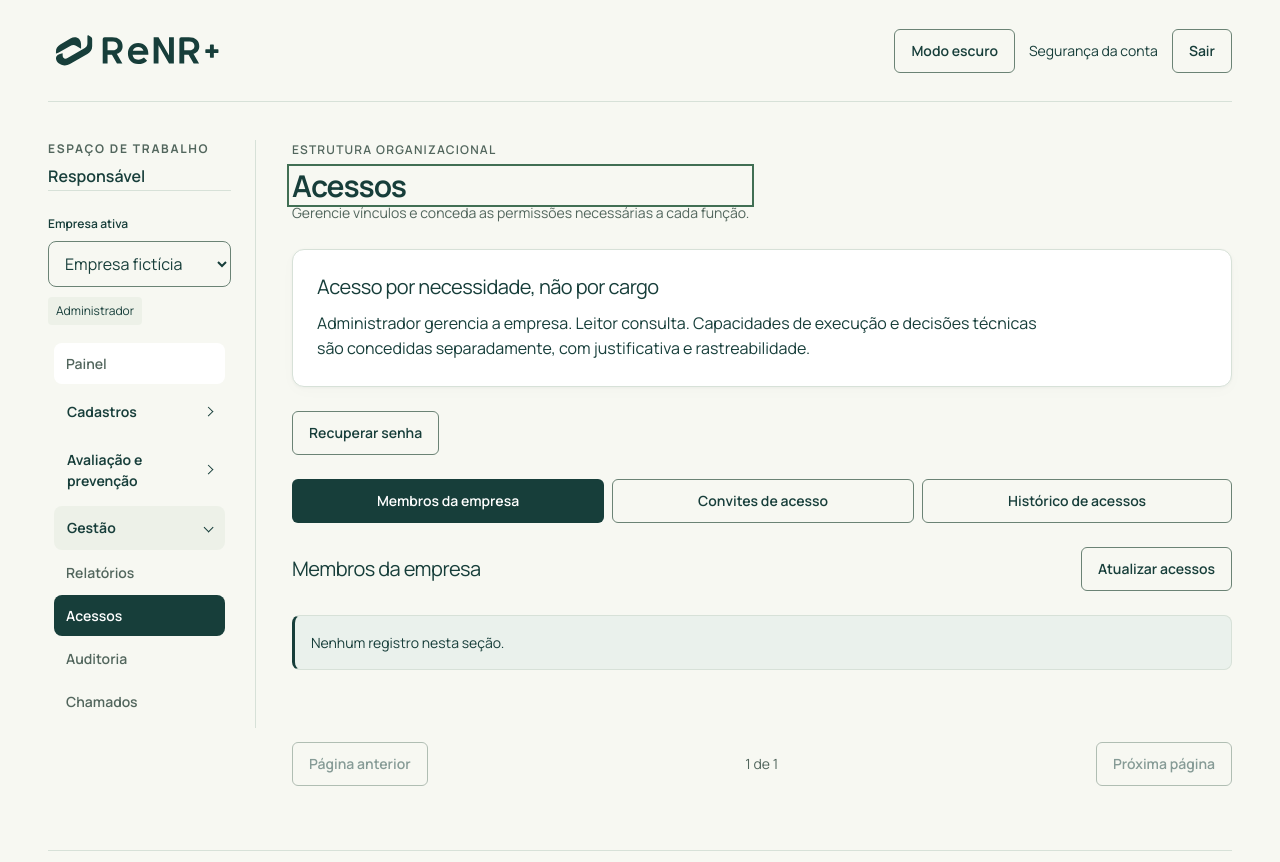
Test case: Recuperação assistida de senha › mantém a emissão empresarial dentro da organização ativa
Step 1. Click the button "Recuperar senha" → click(366, 433), box 292,411 -> 439,455
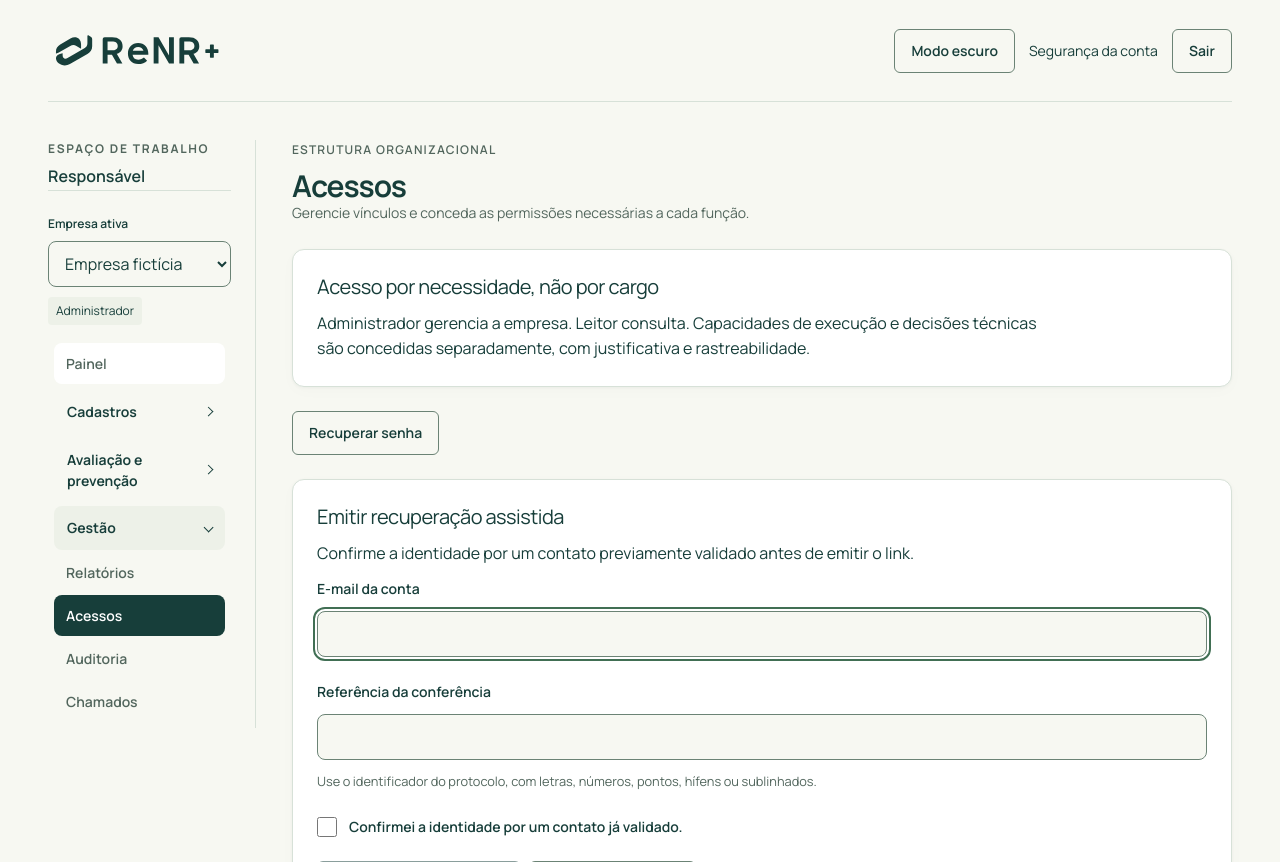
Step 2. Type "titular@example.test" into the field labelled "E-mail da conta" → (762, 634), box 317,611 -> 1207,657
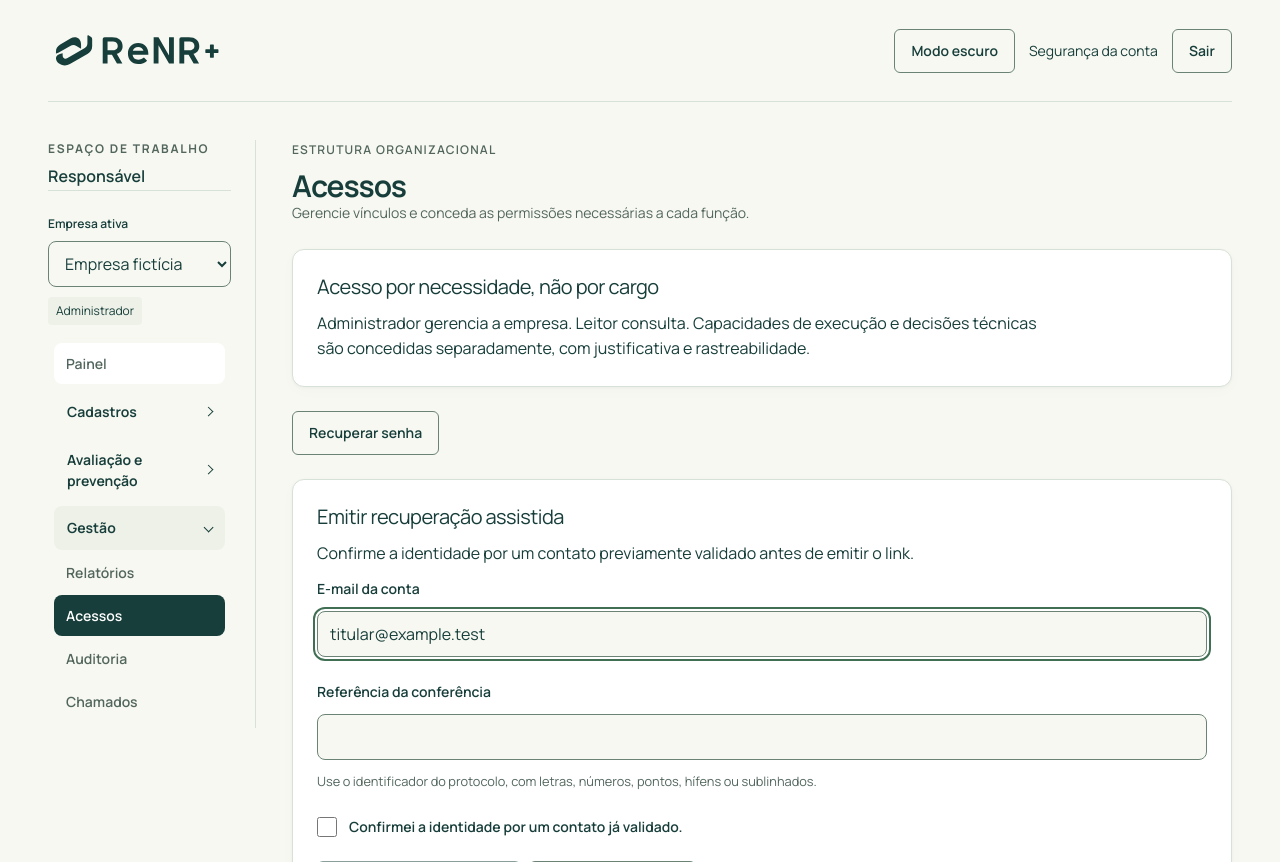
Step 3. Type "PROTOCOLO-52" into the field labelled "Referência da conferência" → (762, 737), box 317,714 -> 1207,760
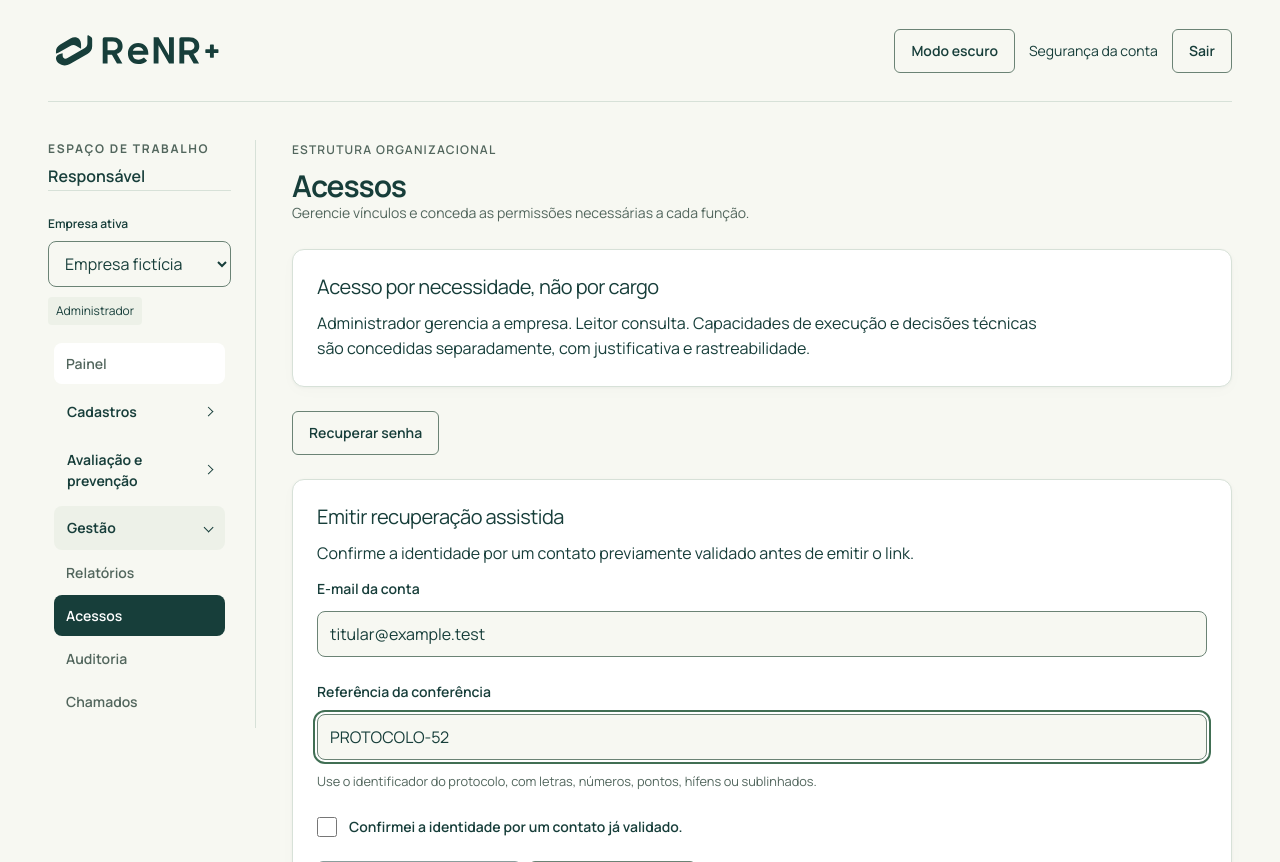
Step 4. Click the checkbox labelled "Confirmei a identidade por um contato já validado." → click(327, 827), box 317,817 -> 337,837
(page scrolled)
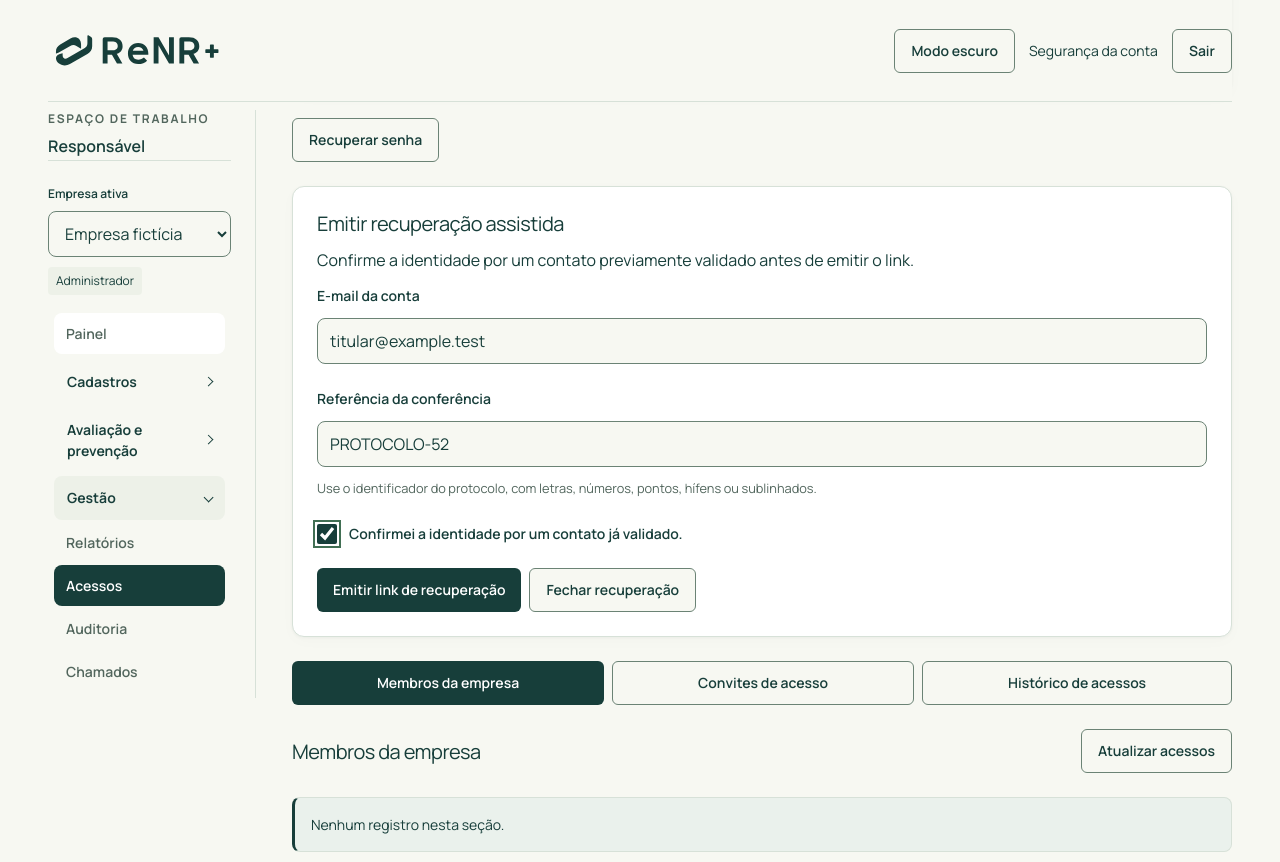
Step 5. Click the button "Emitir link de recuperação" → click(419, 590), box 317,568 -> 521,612
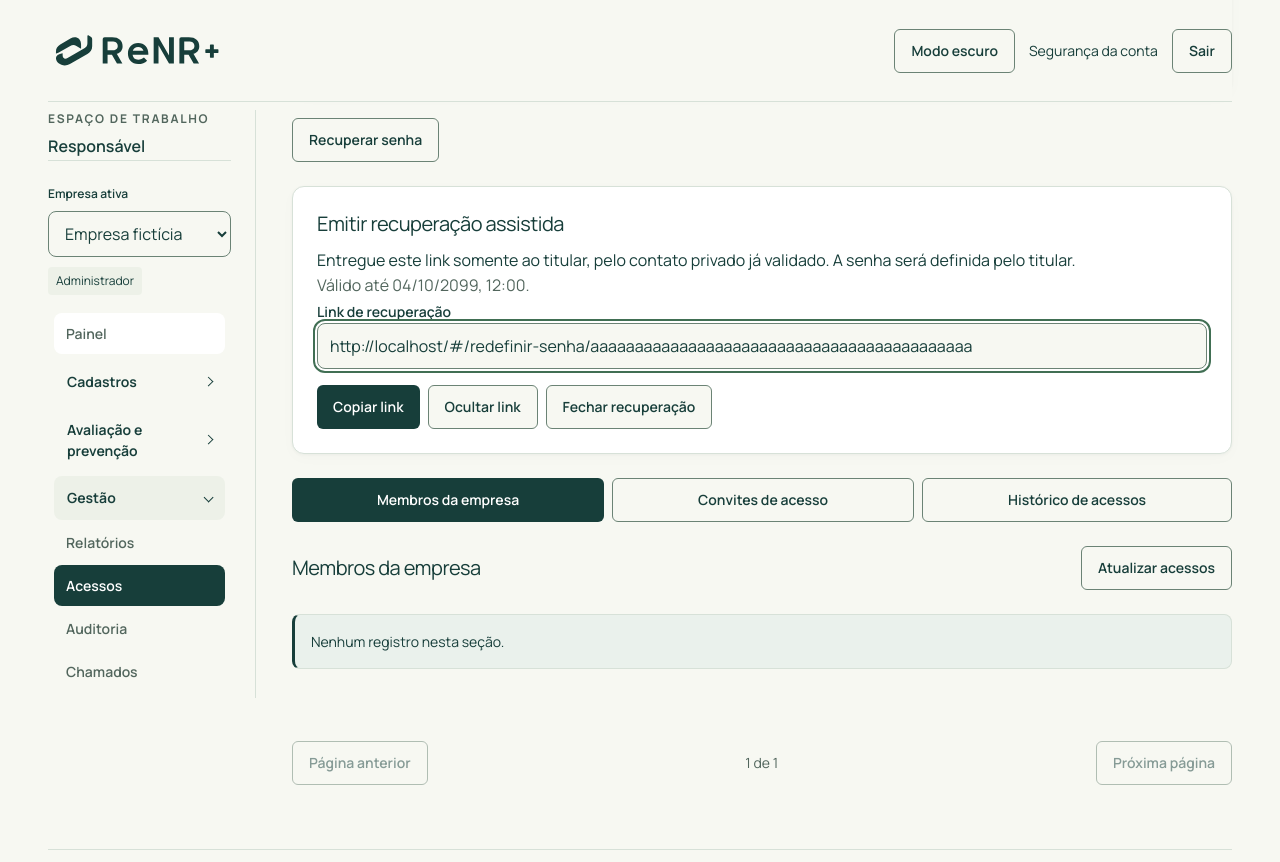
Now the field labelled "Link de recuperação" is shown, box 317,323 -> 1207,369
